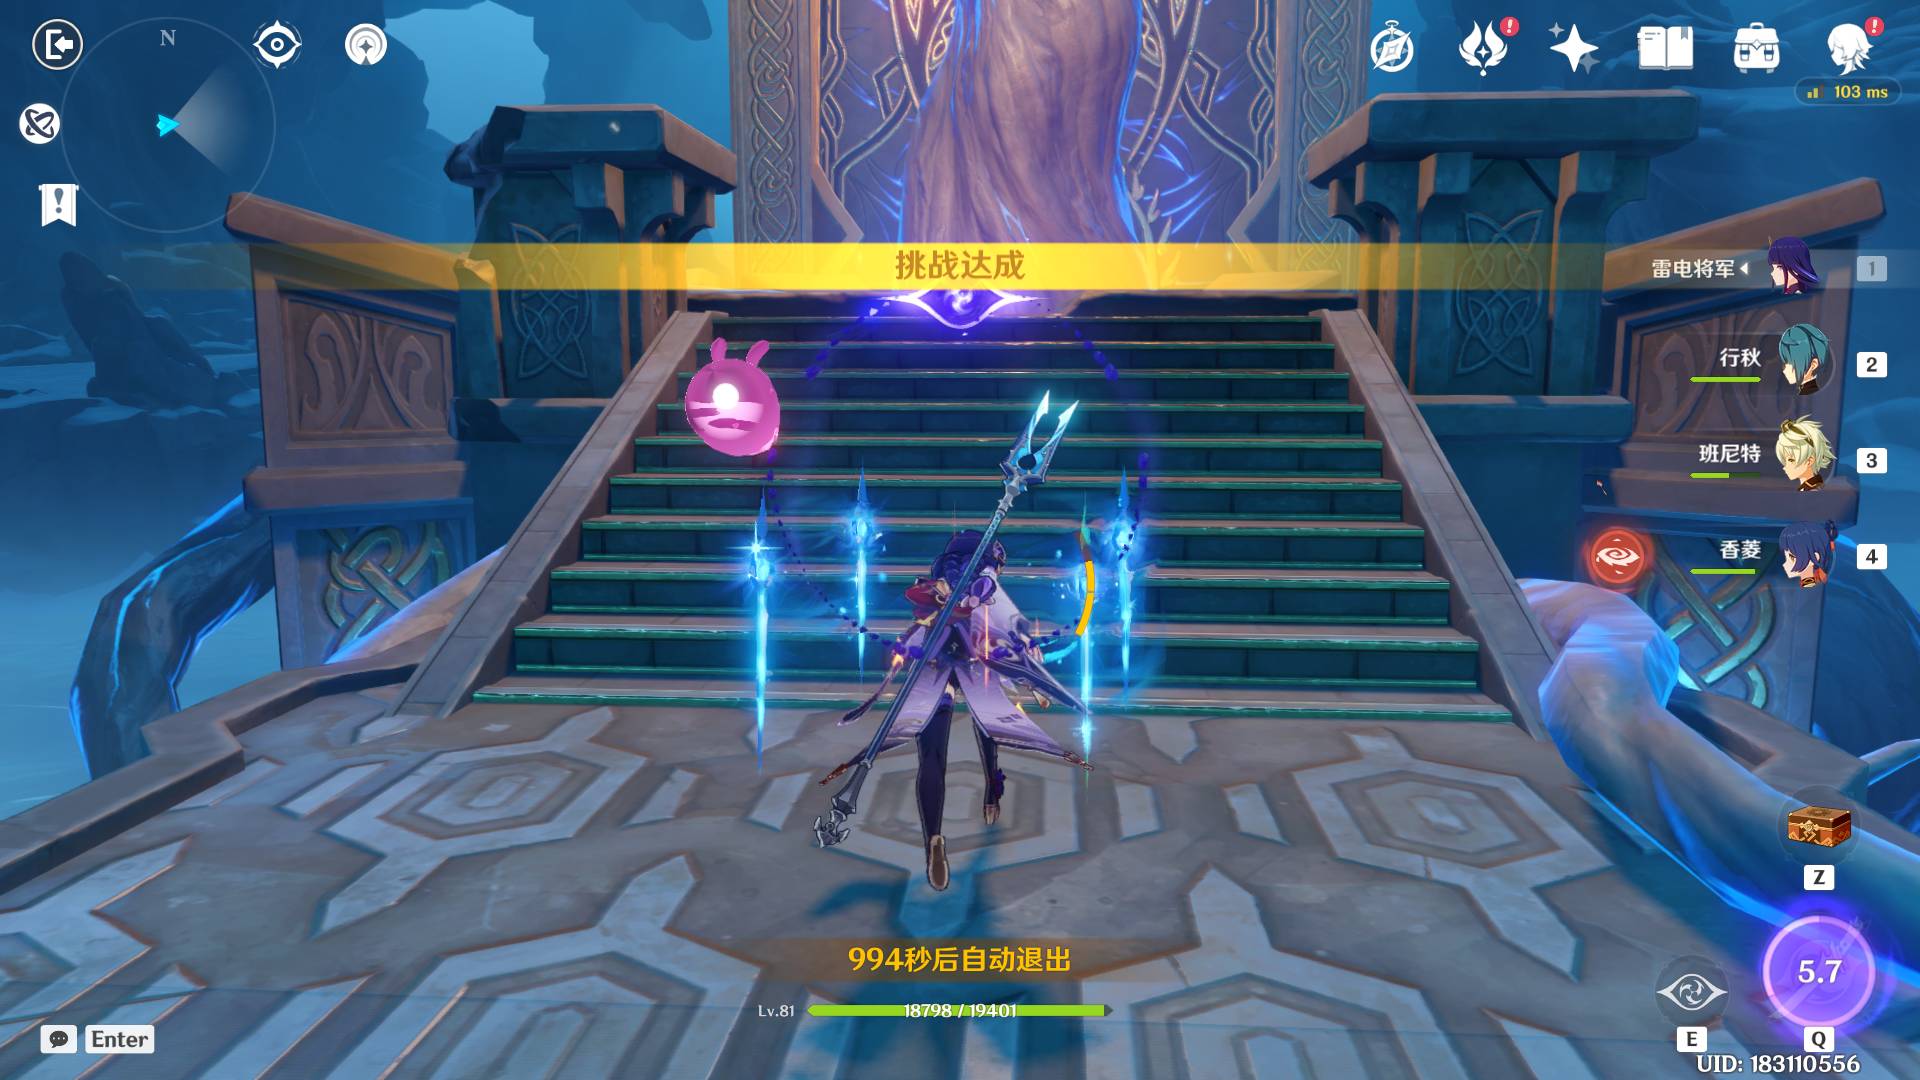character: (783, 454, 1170, 905)
